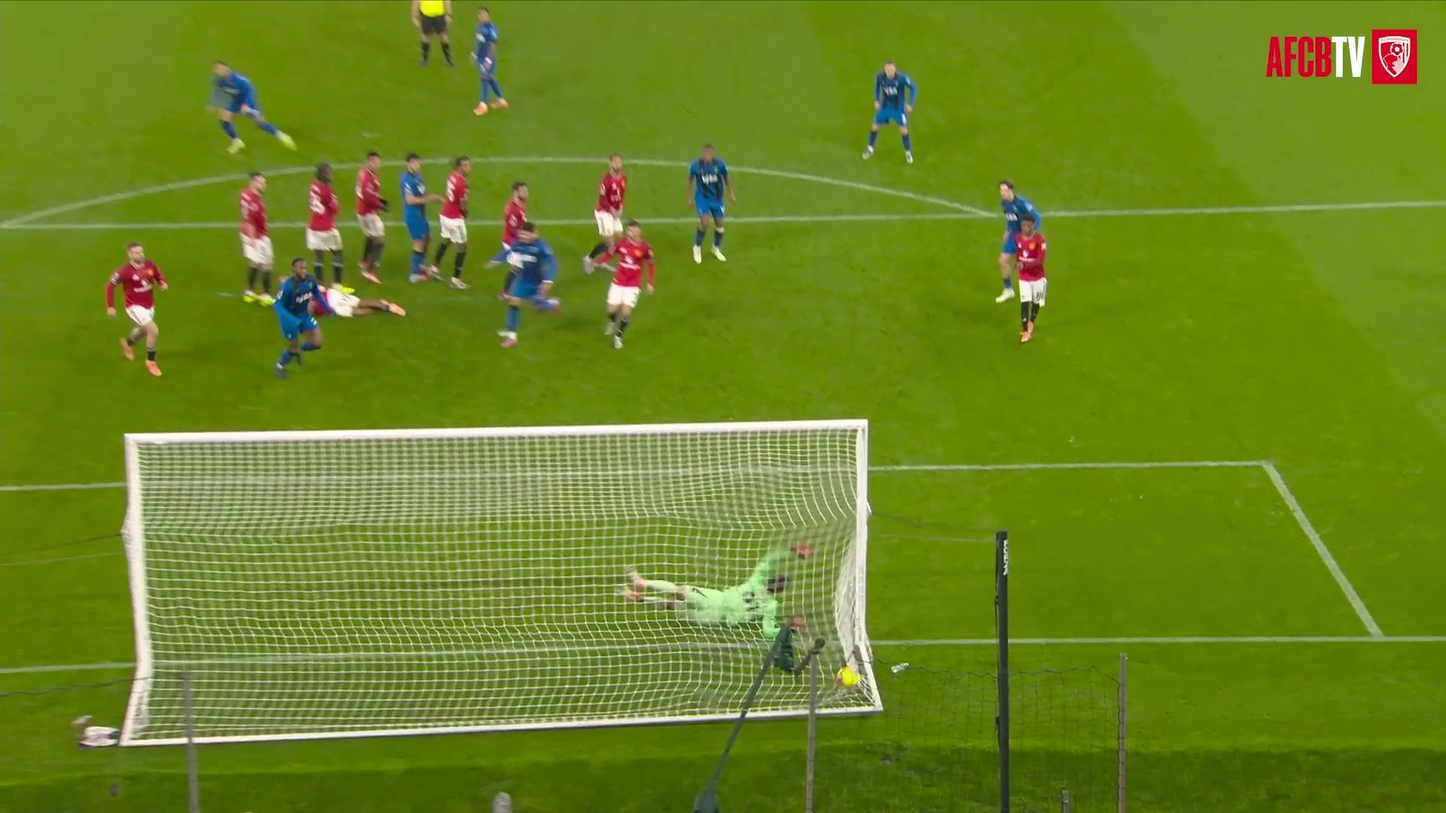football: (827, 655, 880, 708)
player: (621, 544, 809, 640), (487, 222, 560, 347), (106, 242, 167, 376), (213, 61, 295, 153), (273, 257, 331, 378), (602, 220, 655, 348), (305, 163, 353, 292), (688, 144, 736, 262), (996, 180, 1041, 302), (862, 62, 916, 163), (401, 153, 441, 282), (583, 154, 626, 273), (432, 157, 470, 288), (239, 172, 273, 305), (355, 151, 387, 283), (1014, 216, 1047, 342), (472, 7, 508, 115), (319, 285, 404, 317), (501, 181, 528, 250)
referee: (413, 0, 453, 66)
